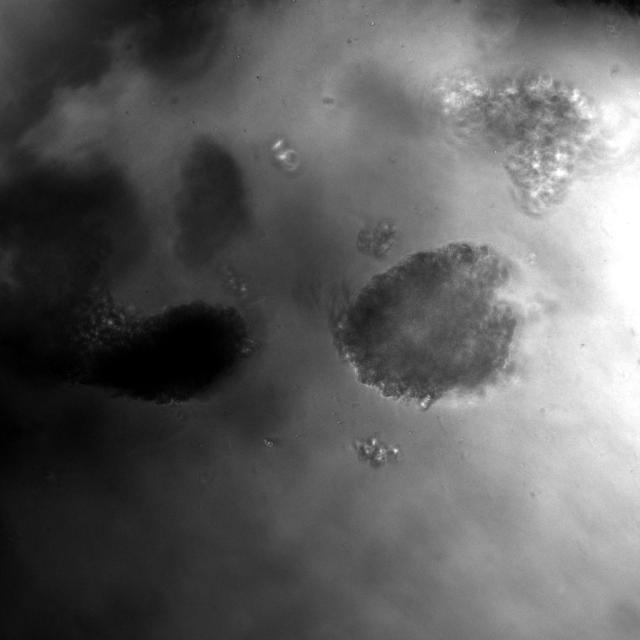organoid: (0, 158, 252, 403), (336, 243, 516, 403), (437, 73, 636, 215), (174, 138, 249, 266), (353, 436, 399, 468), (358, 220, 395, 259), (269, 137, 299, 174)
